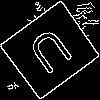U: (25, 25, 81, 84)
